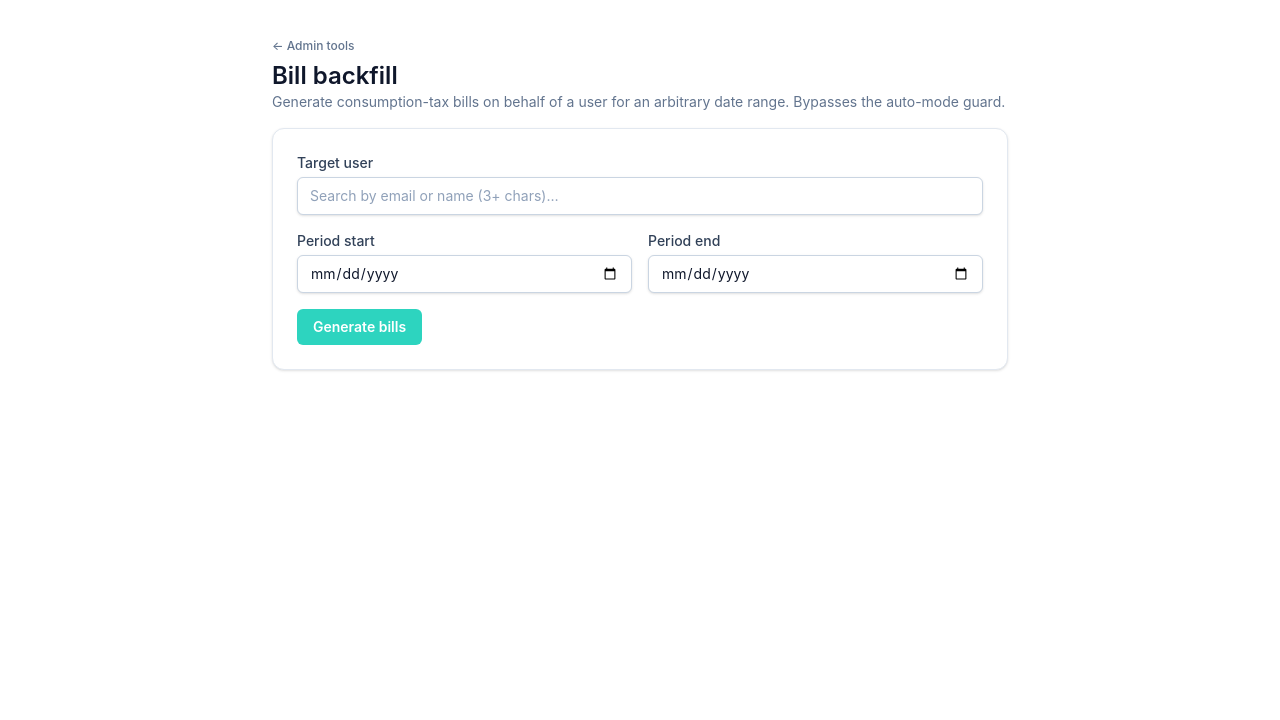
Test: AdminBillBackfillPage › surfaces a friendly error when the BE returns a non-2xx
This screenshot has width=1280, height=720.
In the search field named "search target user by email or name": (640, 196) left=297, top=177, right=983, bottom=215, type "jane"
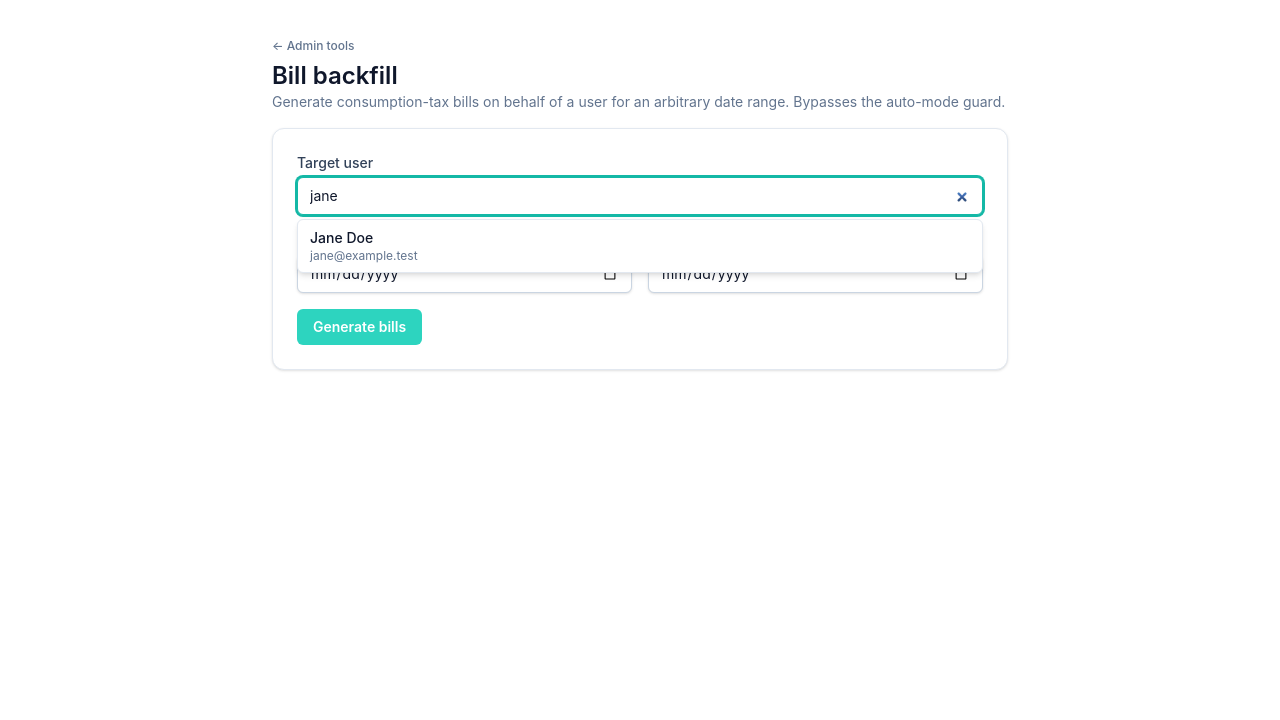
Click the option "Jane Doe jane@example.test": (342, 238) left=298, top=220, right=982, bottom=272
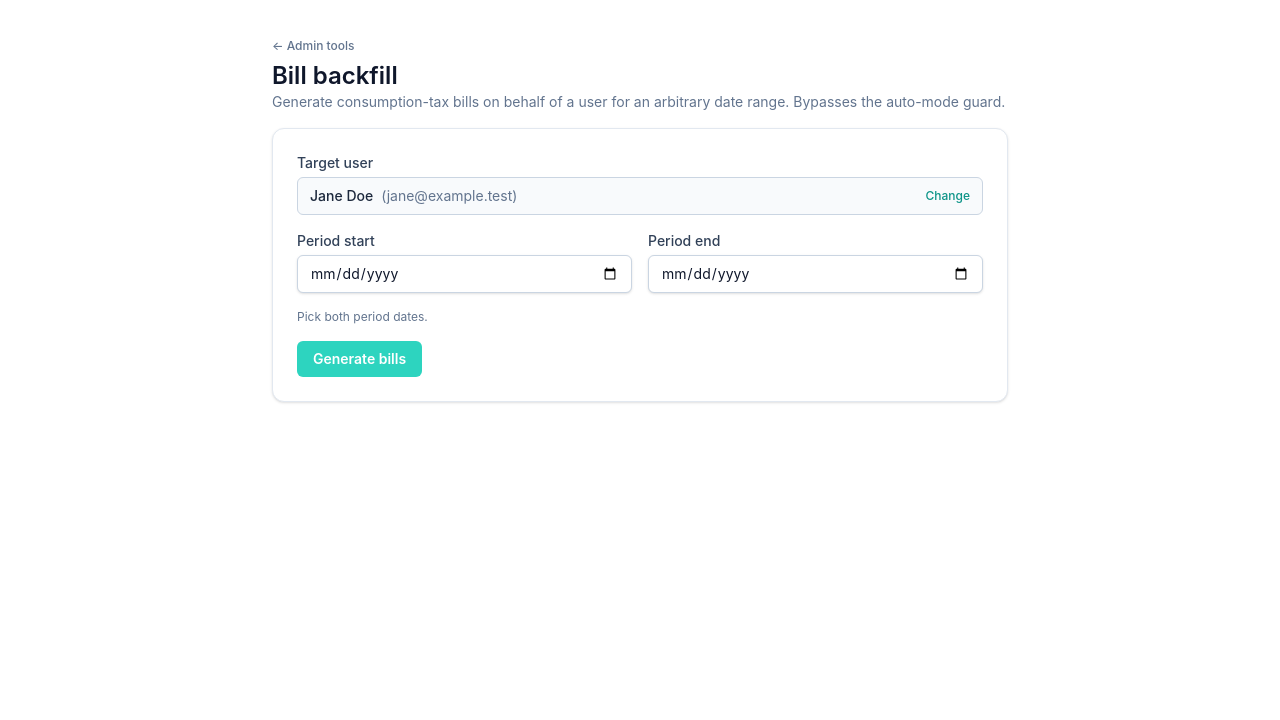
In the date field labelled "Period start": (464, 274) left=297, top=255, right=632, bottom=293, type "2026-04-01"
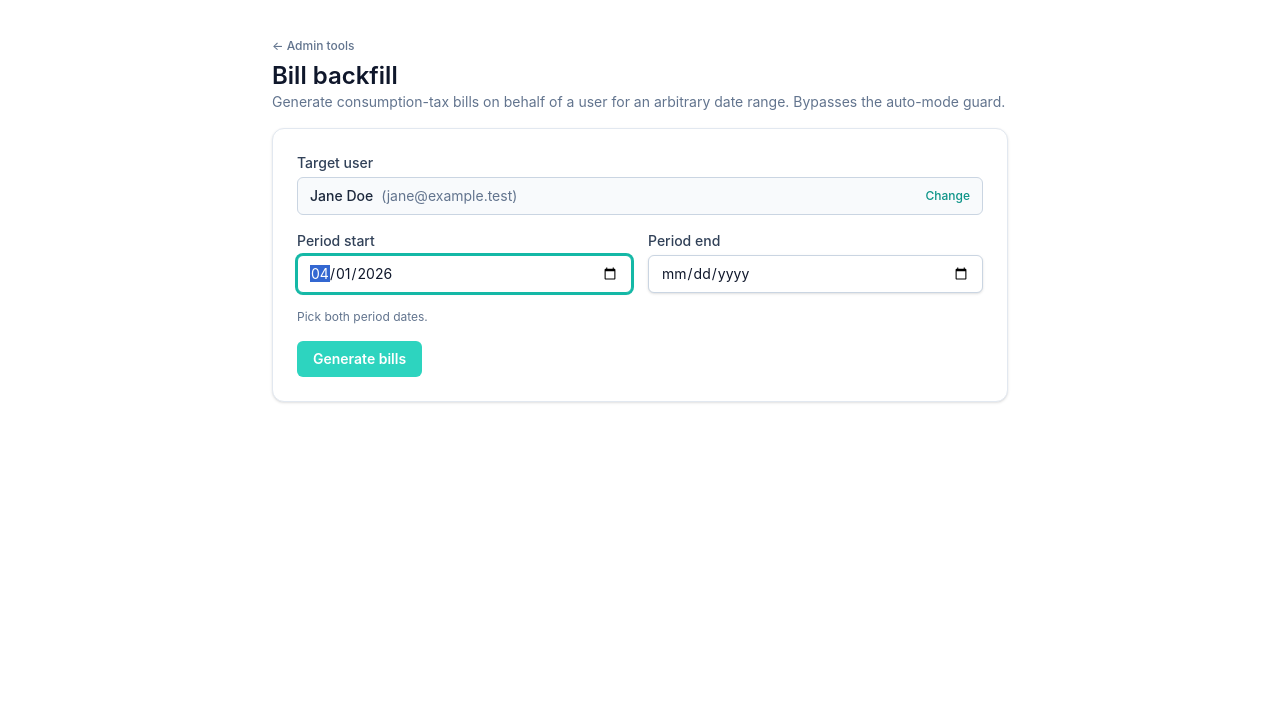
In the date field labelled "Period end": (816, 274) left=648, top=255, right=983, bottom=293, type "2026-04-30"
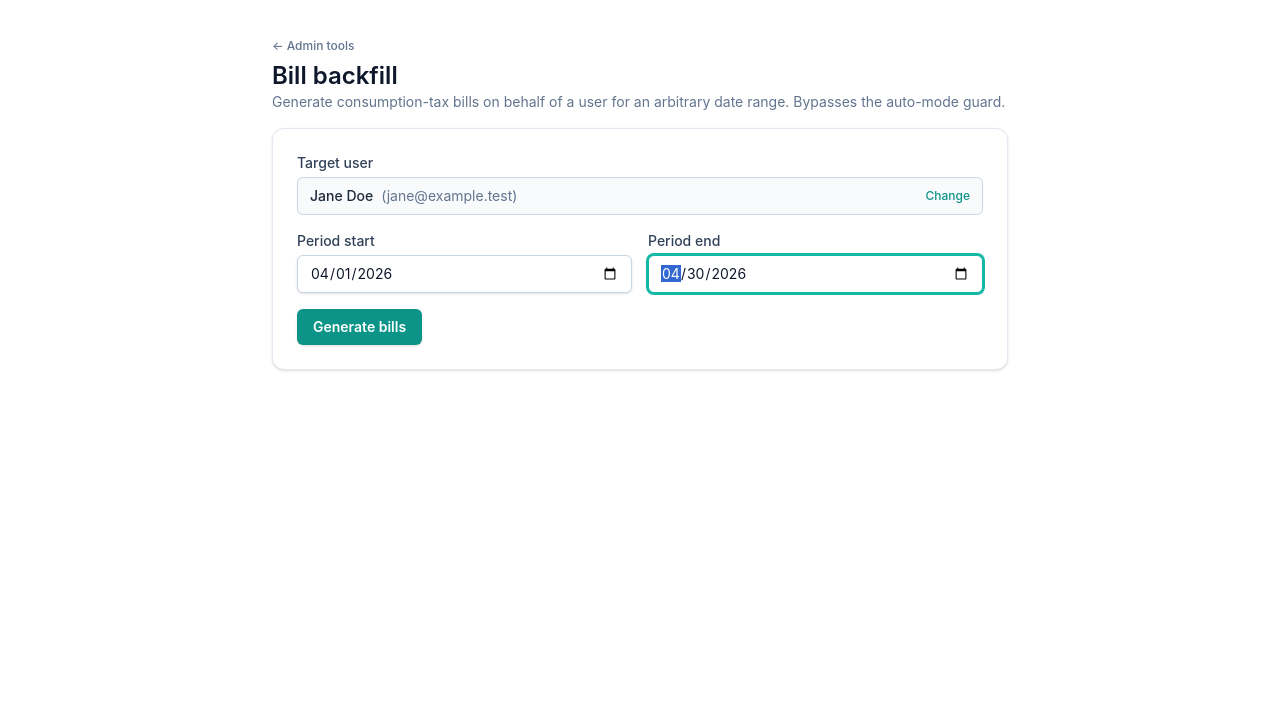
Click the button "Generate bills": (360, 327) left=297, top=309, right=422, bottom=345
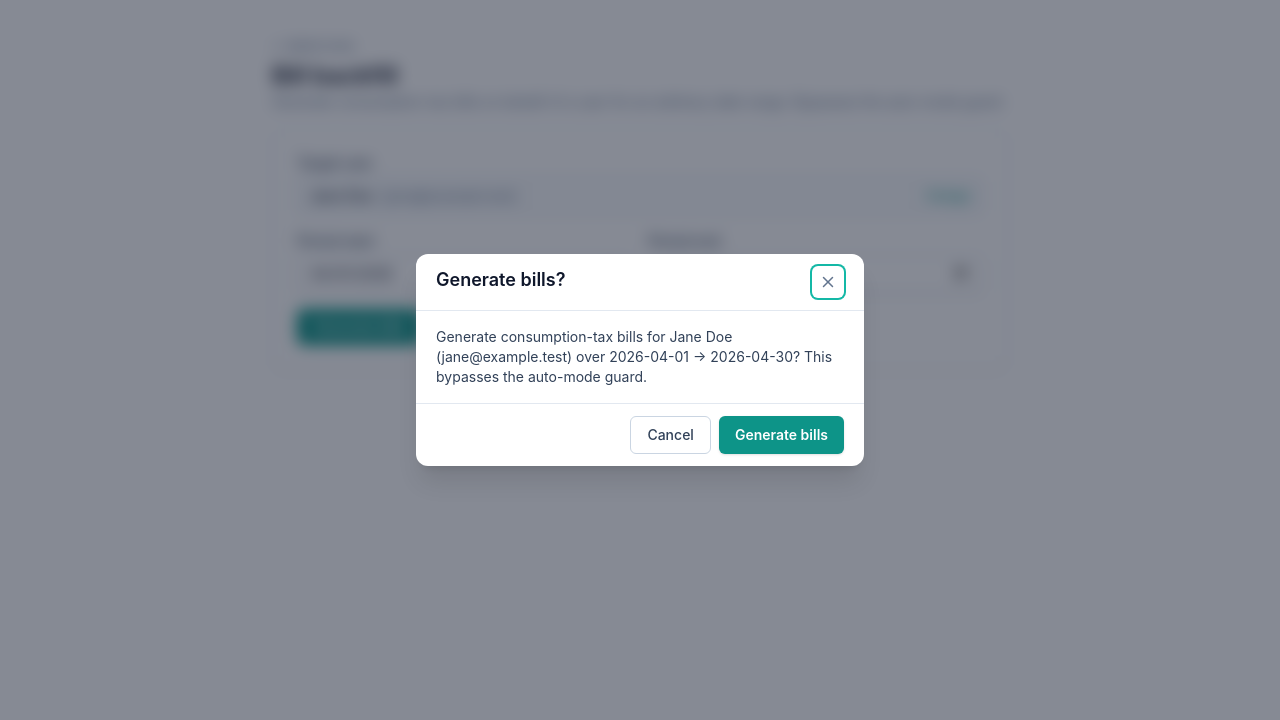
Click the button "Generate bills": (781, 435) left=719, top=416, right=844, bottom=454
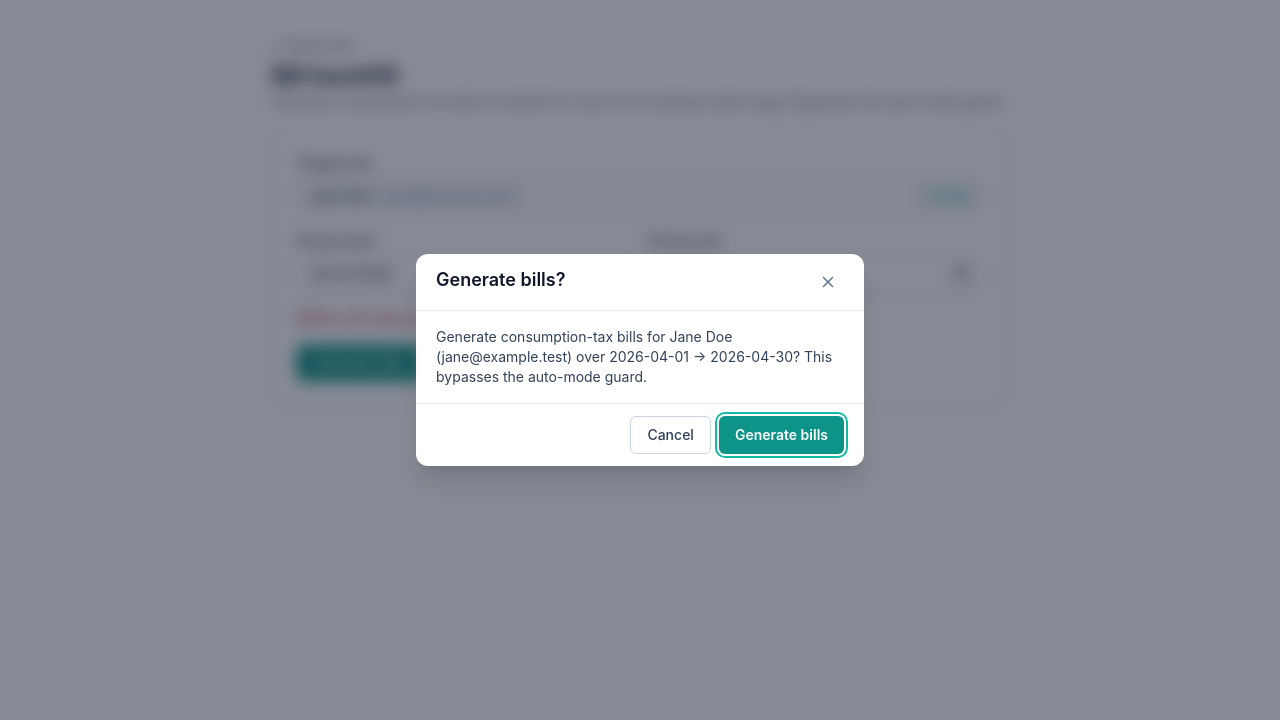
Check: the text "BillPeriodTooRecent" is shown, box left=297, top=310, right=430, bottom=327
